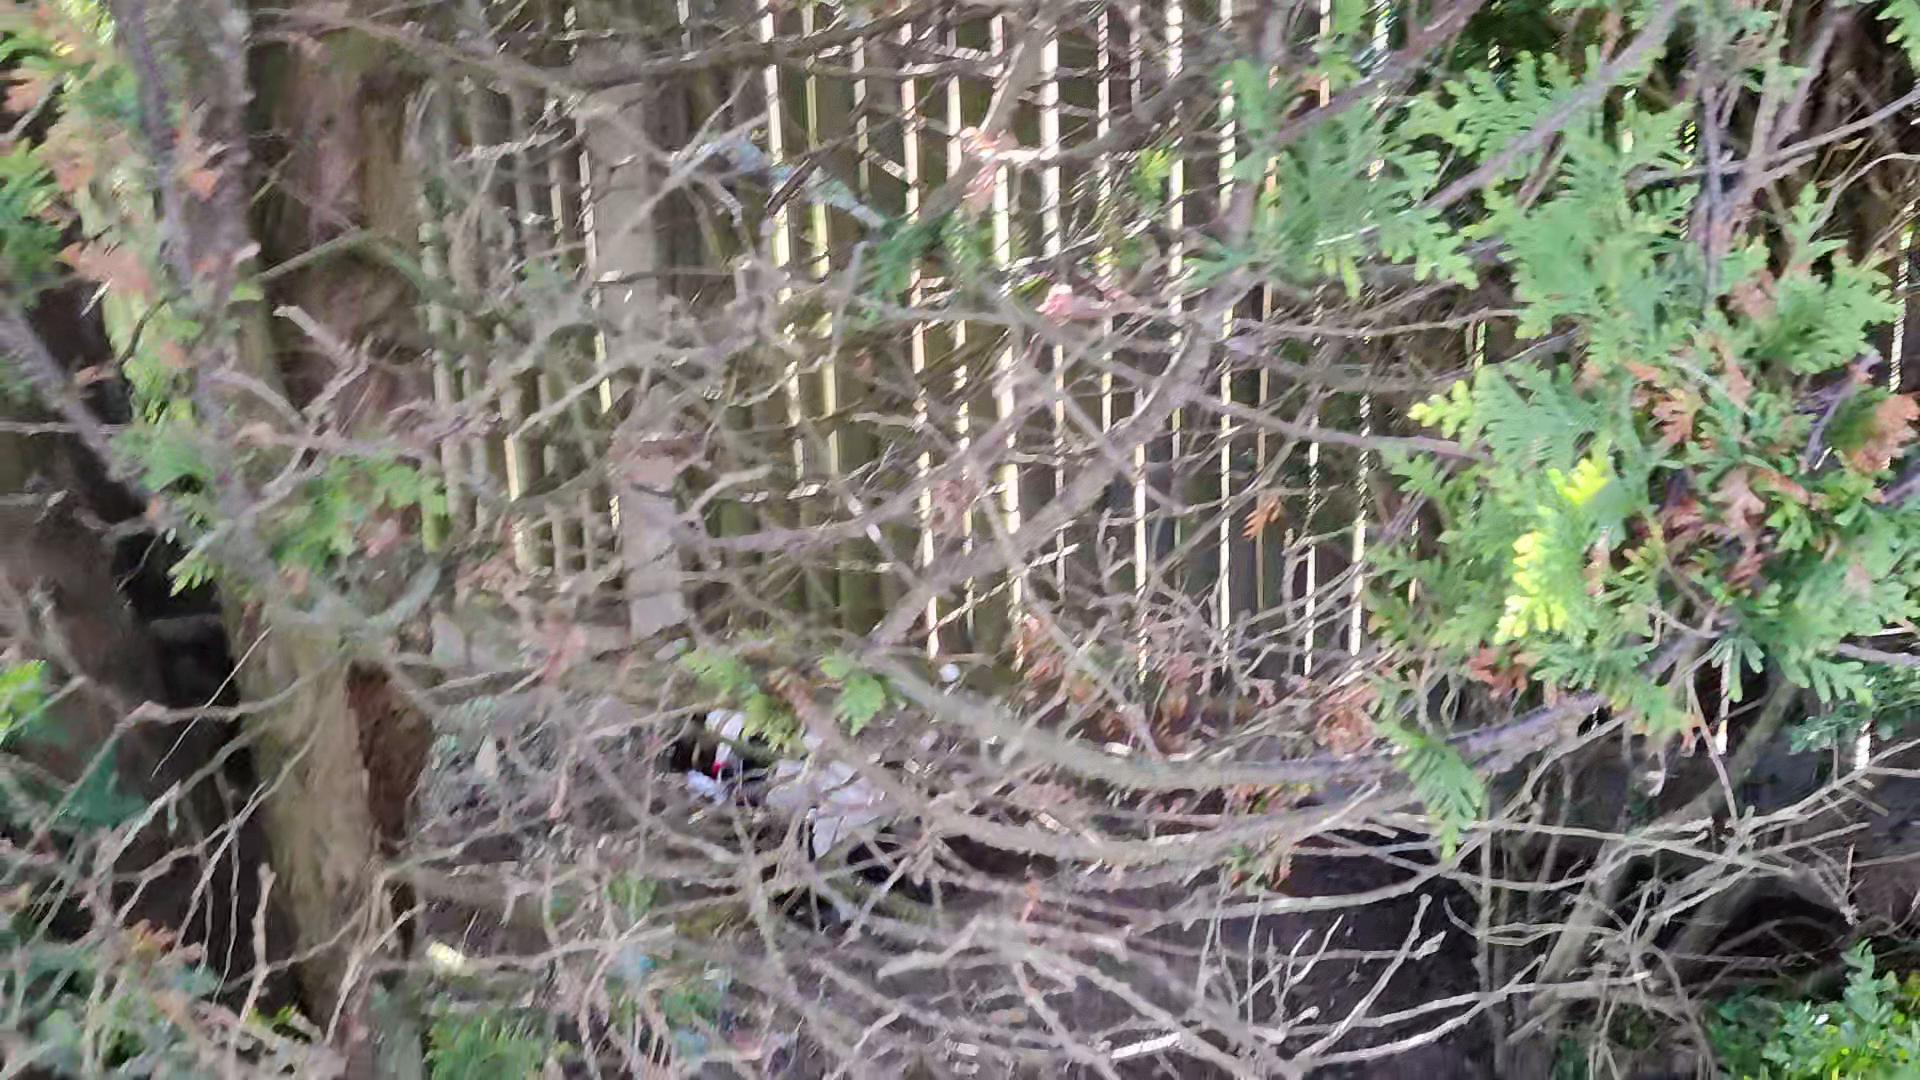Dog: (649, 641, 967, 891)
